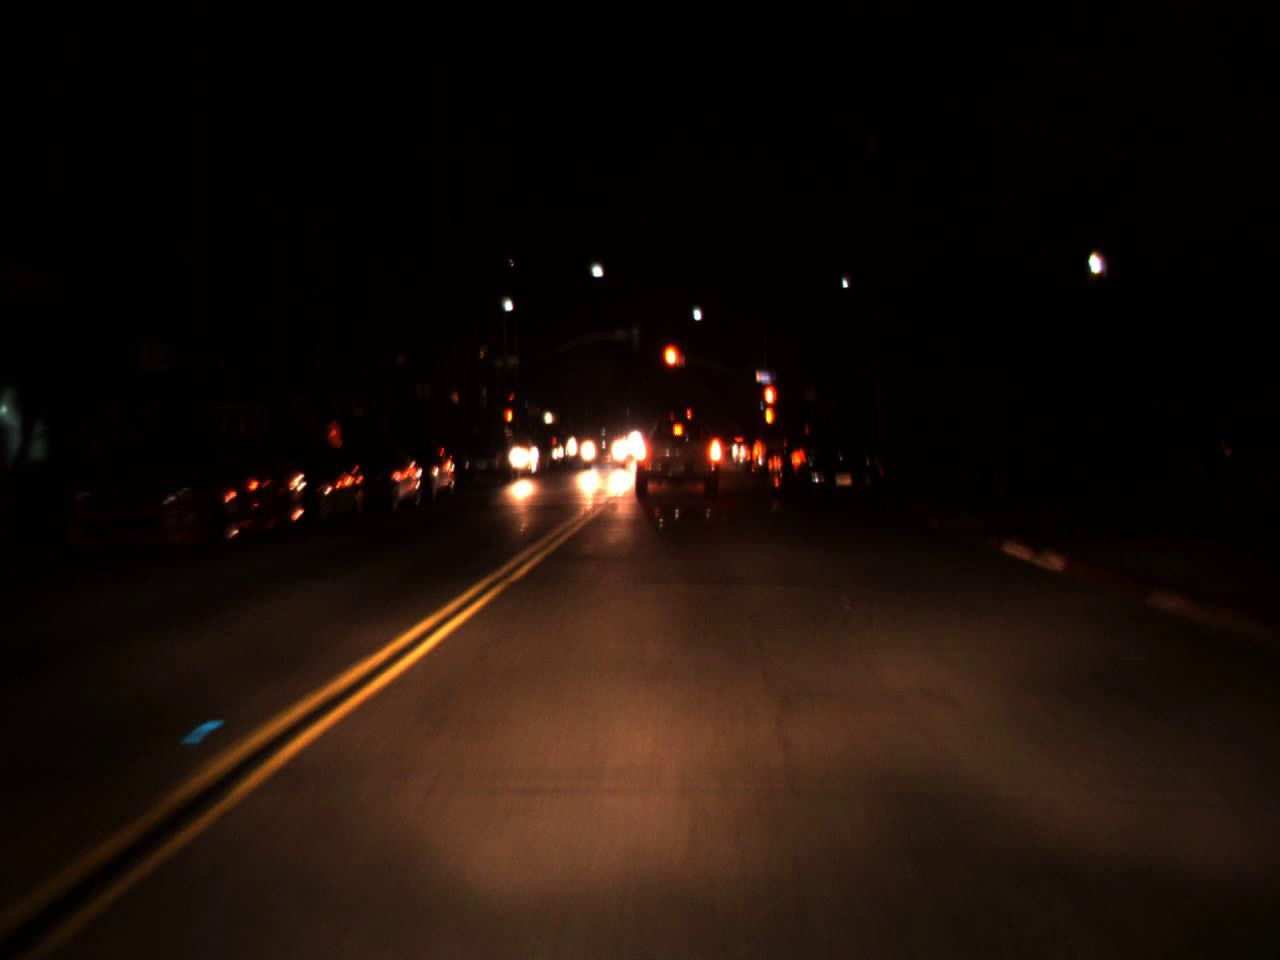stop: (660, 341, 682, 395), (762, 381, 778, 429)
